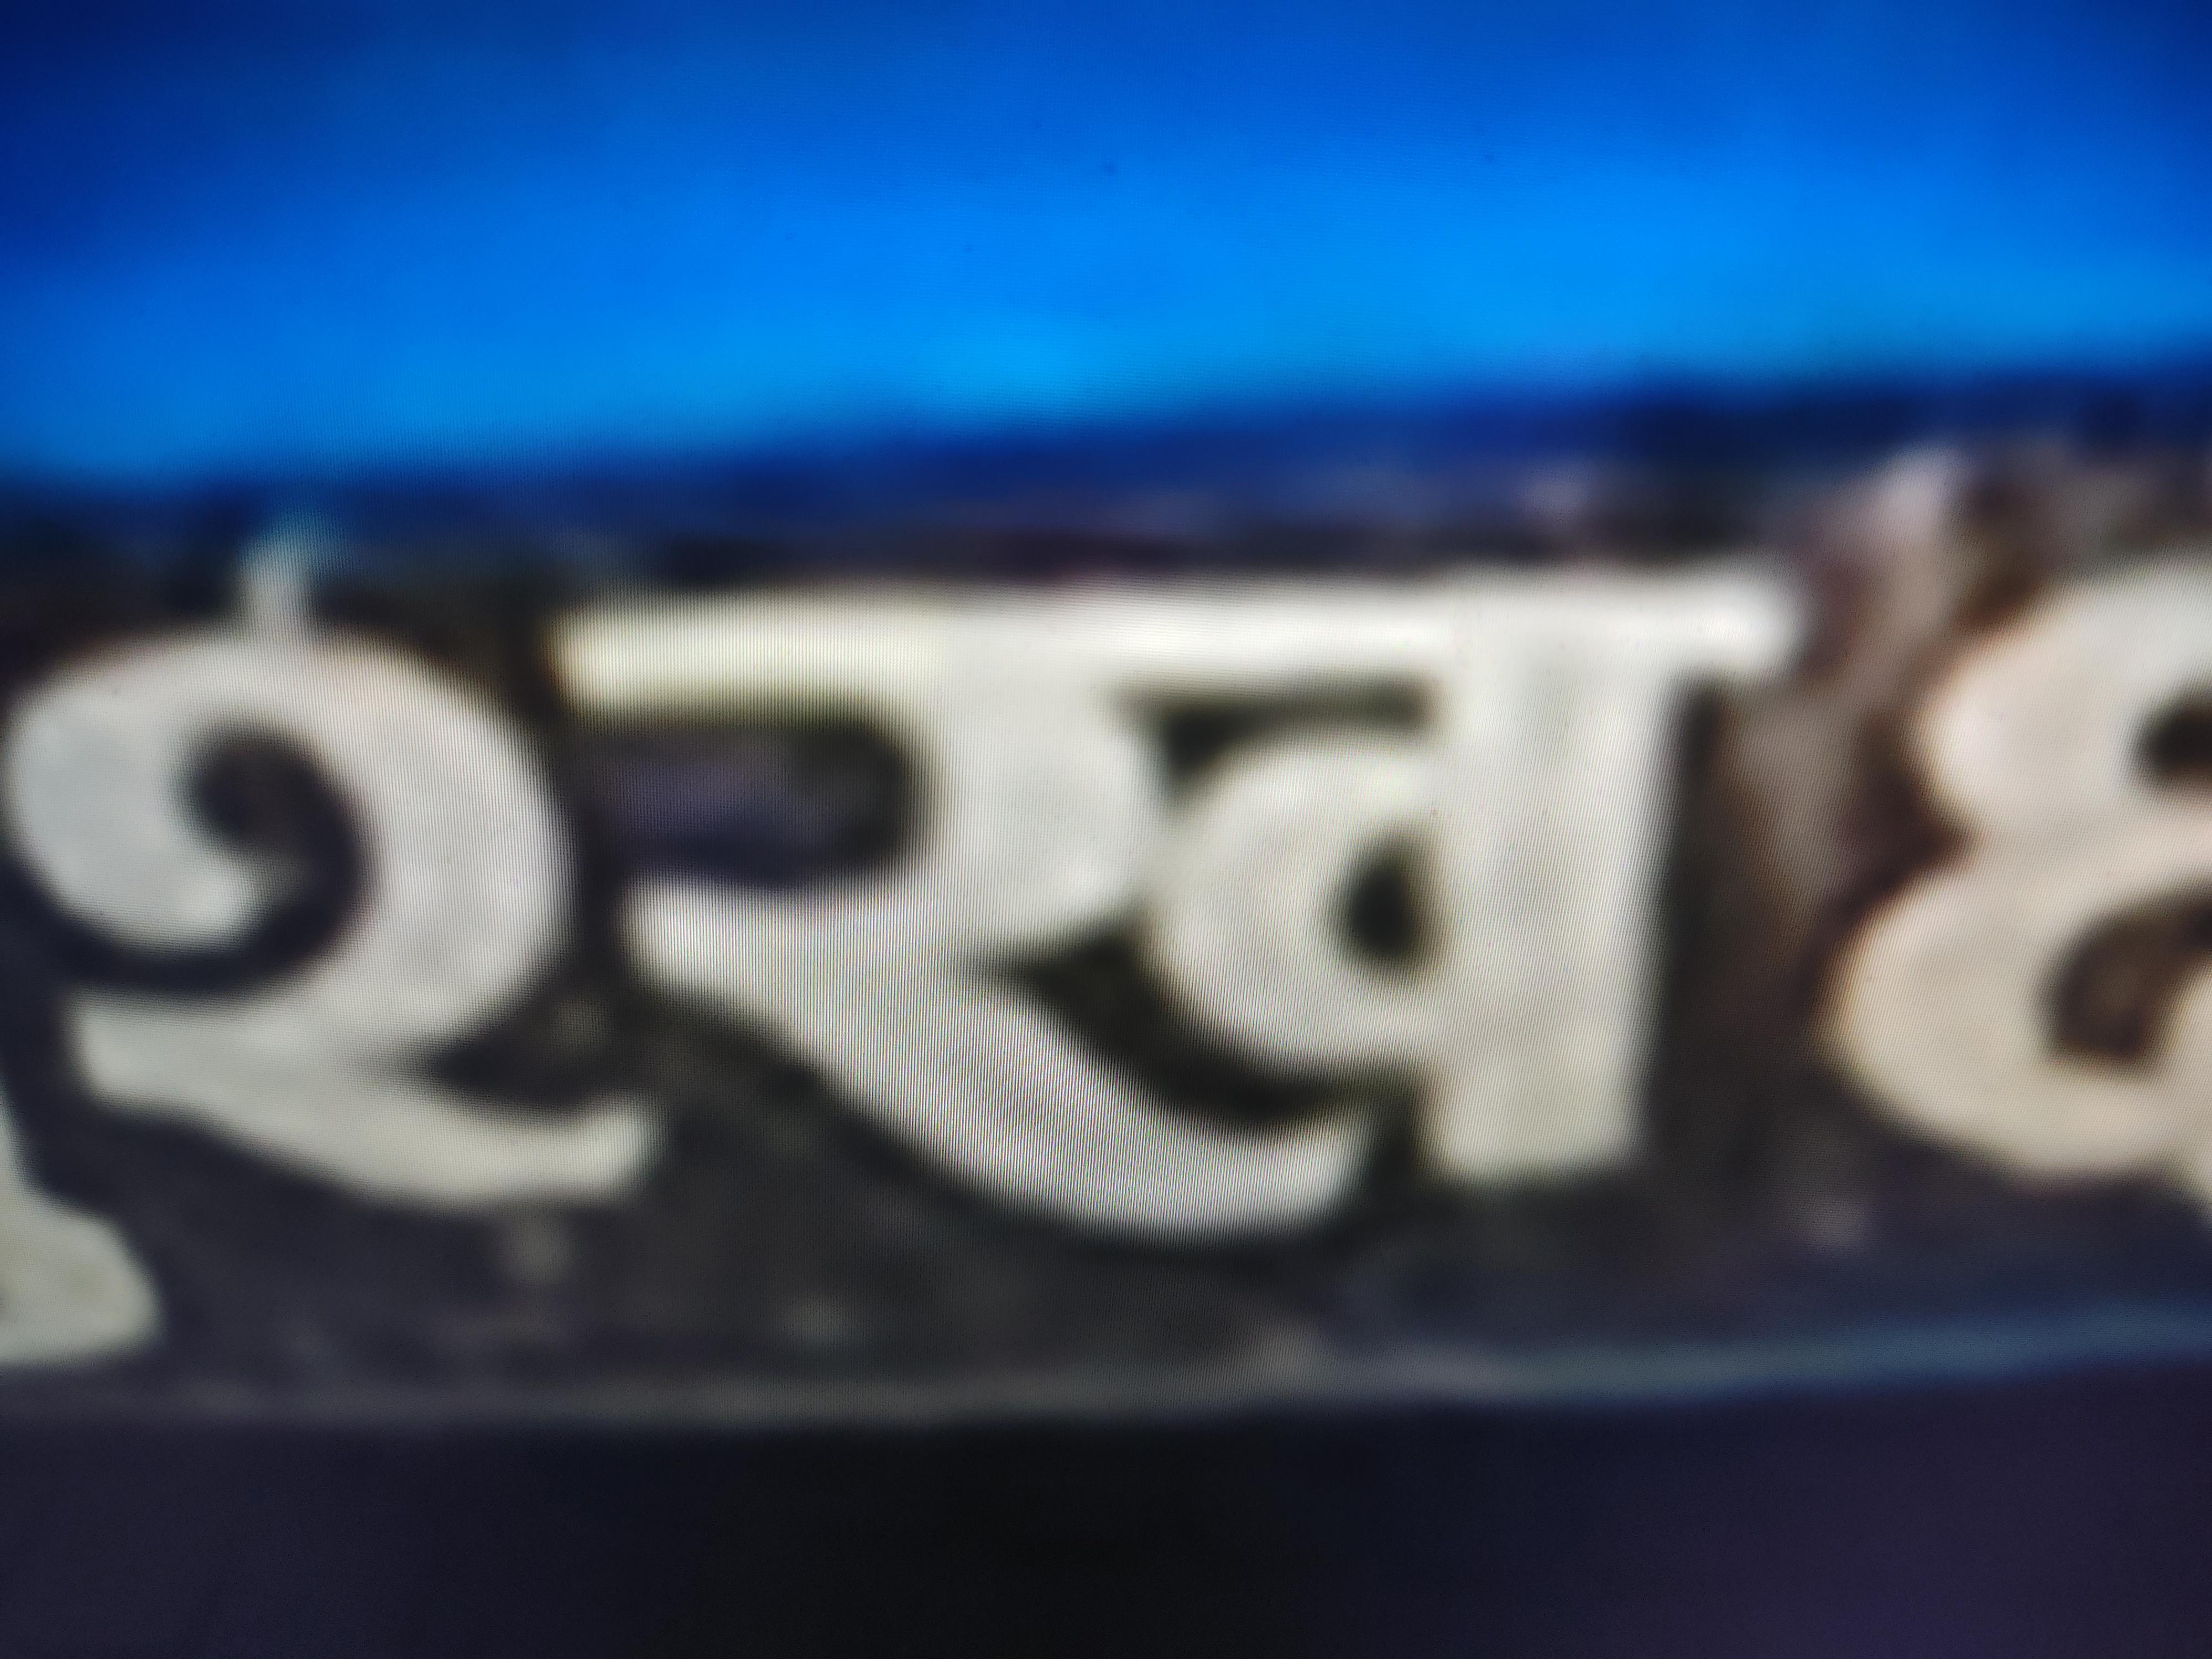kha: (529, 542, 1860, 1306)
